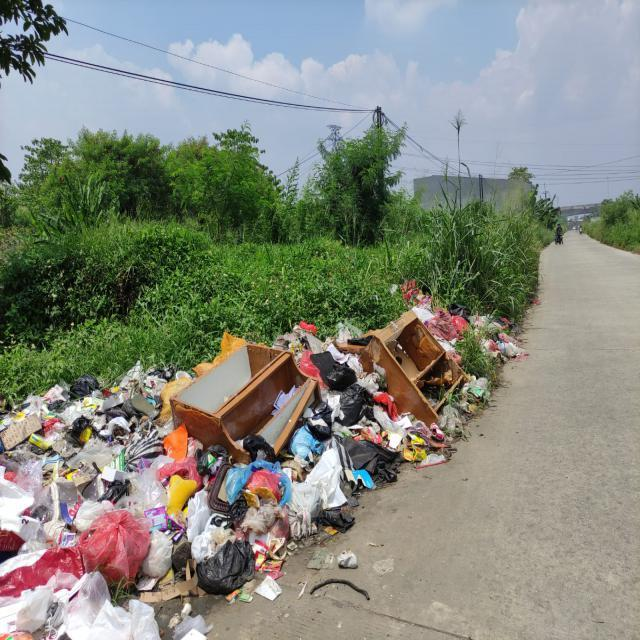Trashbag: (198, 538, 258, 592), (335, 382, 373, 424), (64, 371, 102, 403), (242, 432, 279, 462), (326, 360, 358, 390)
